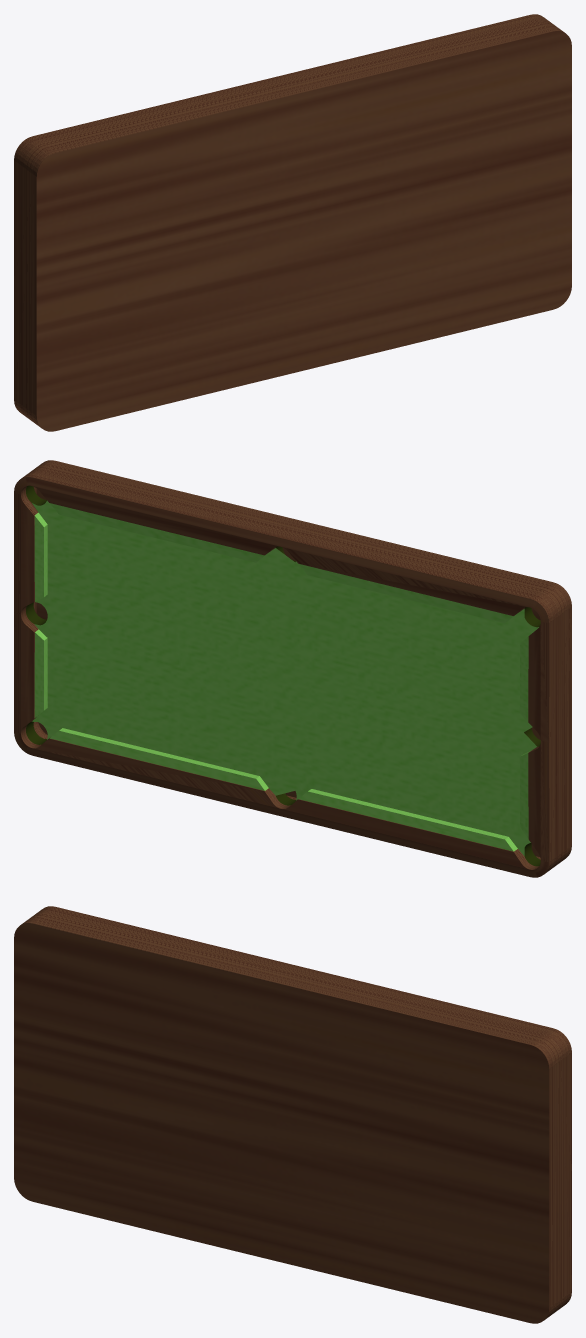
File: Billiard_Table_10_29fbx.fbx
3 views of the same model, one above another, from view 1: azimuth 30°, elevation 25°; view 2: azimuth 150°, elevation 25°; view 3: azimuth 330°, elevation 25° (orthographic).
Visible parts, largest first — view 1: base.001; view 2: base, base.001, base.002; view 3: base.001.
Boxes of the visible parts, <box> form: base.001: <box>14,14,571,431</box>; base: <box>32,500,538,855</box>; base.001: <box>14,460,571,877</box>; base.002: <box>26,485,540,866</box>; base.001: <box>14,906,571,1323</box>.
Size of the model in its own units: 6363 by 3162 by 484.
